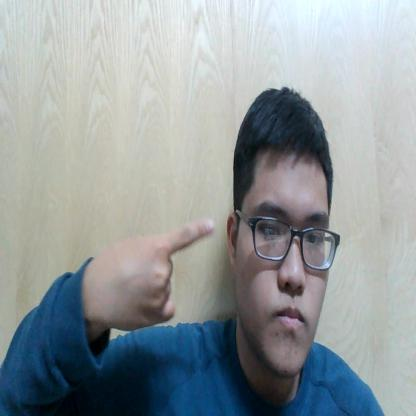left: (93, 206, 219, 336)
